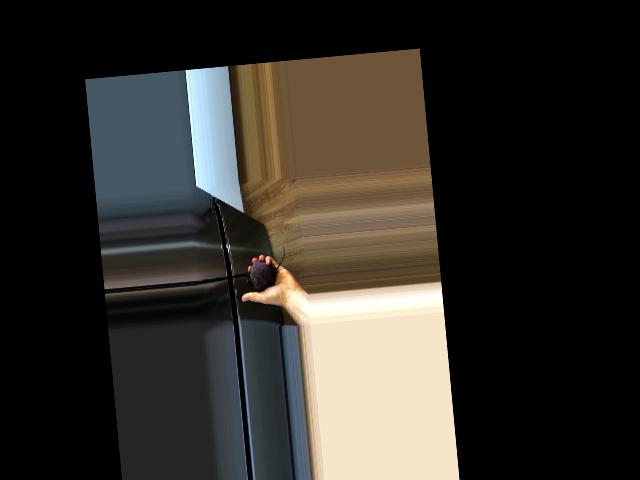beet: (244, 244, 288, 292)
